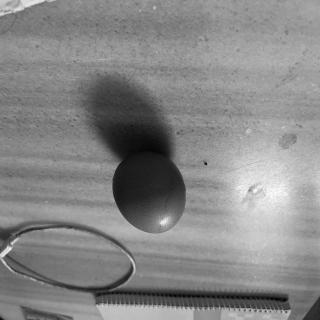Telur: (112, 151, 188, 236)
